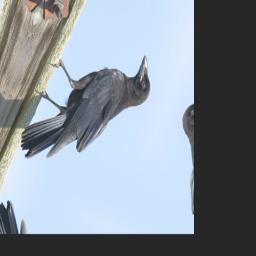Crow: (14, 14, 161, 204)
